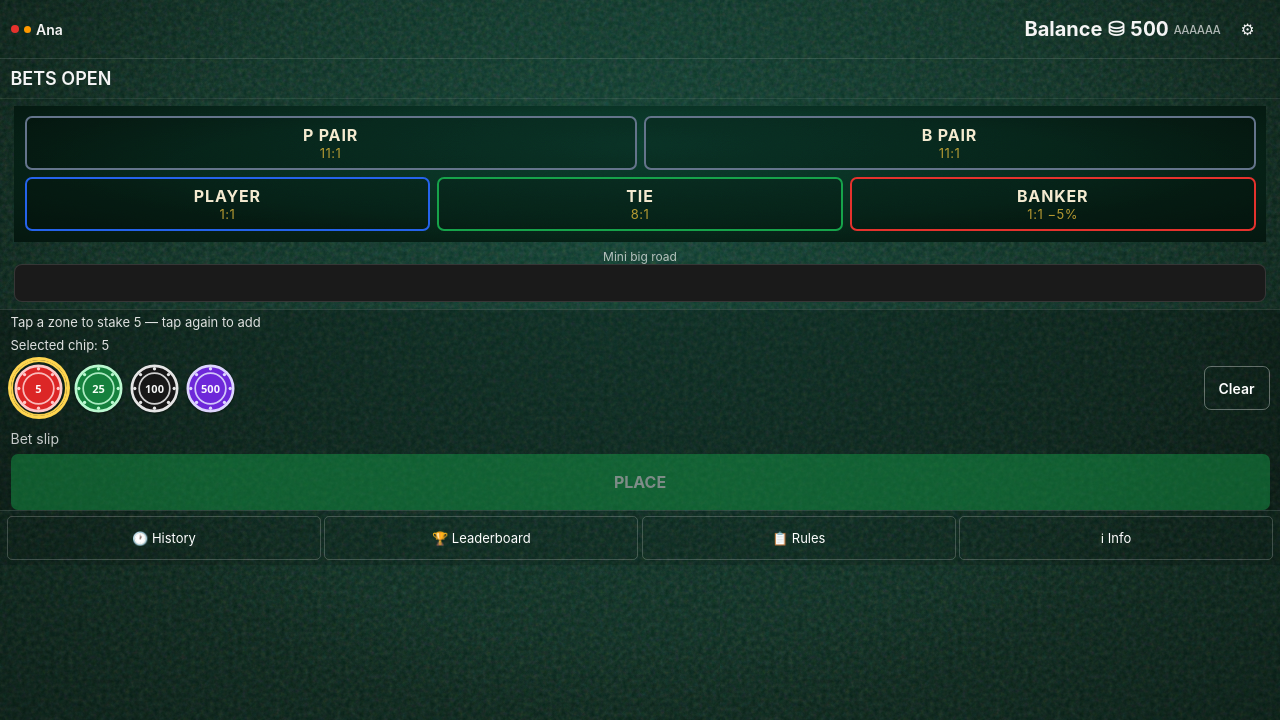
it: PlayerShell › connection feedback › toasts offline on chip tap while disconnected
Click the button with test id "chip-denom-5" at (38, 388), box [10, 360, 66, 416]
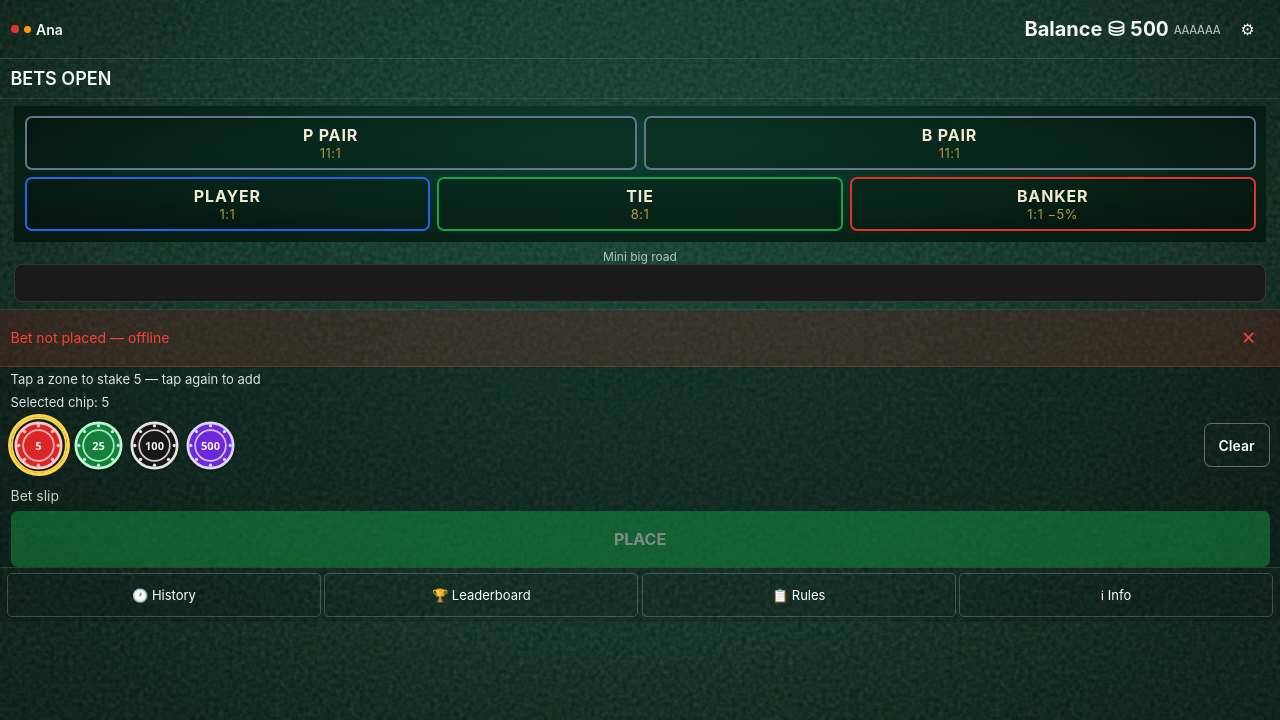
expect the message with test id "player-toast" shows "Bet not placed — offline": met, box [10, 329, 169, 346]
